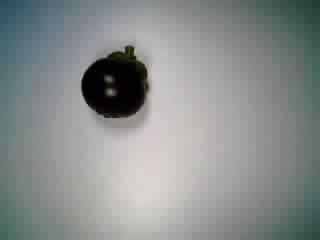mangosteen: (76, 44, 157, 124)
